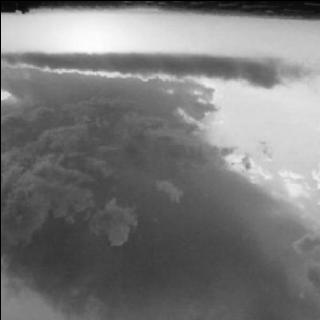Stratus: (0, 46, 320, 320)
